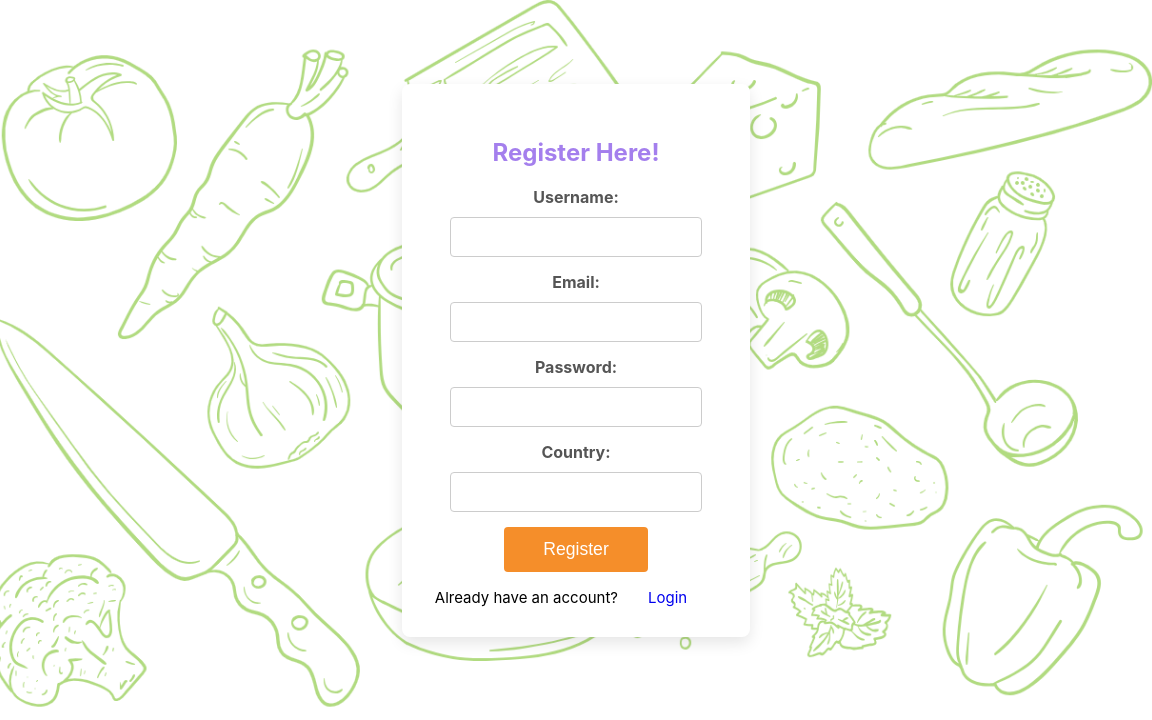
it: Should test register page › should show validation errors when form is submitted with empty fields
What coordinates should you click on to do the following:
click the button "Register"
I would click on:
 (576, 549)
Its box is [504,526,648,572].
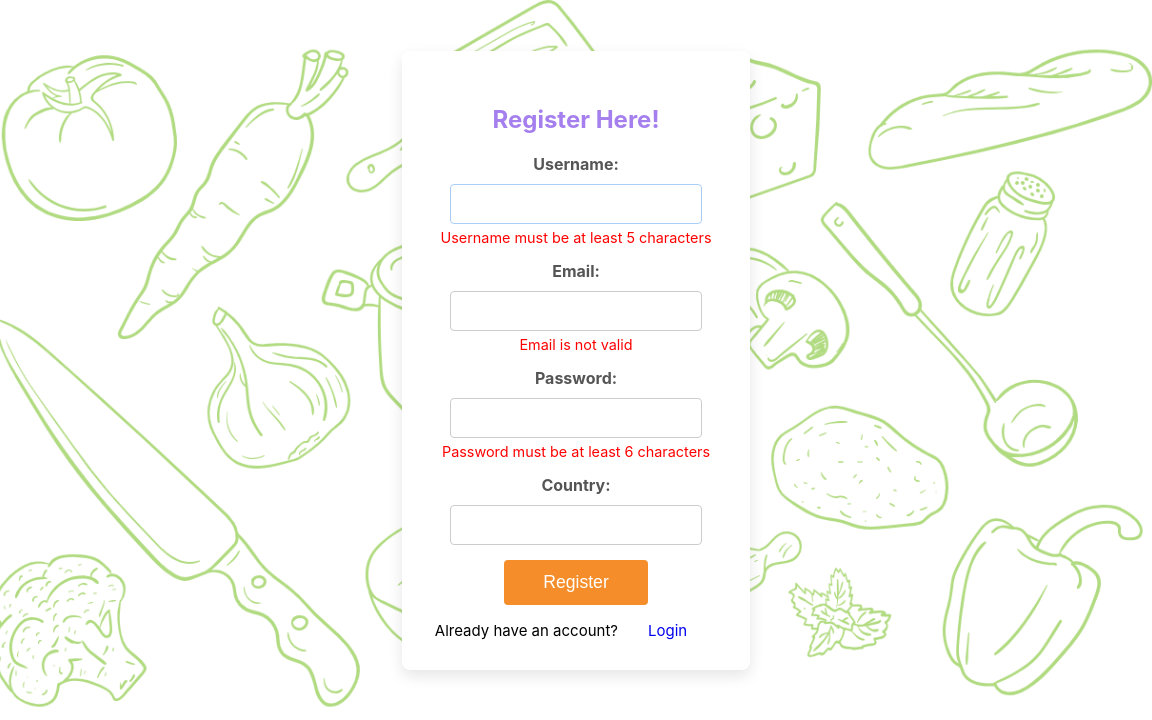
Expected: the text "Username must be at least 5 characters" is shown, [432,228,720,246]
Expected: the text "Email is not valid" is shown, [519,336,633,352]
Expected: the text "Password must be at least 6 characters" is shown, [432,442,720,460]
